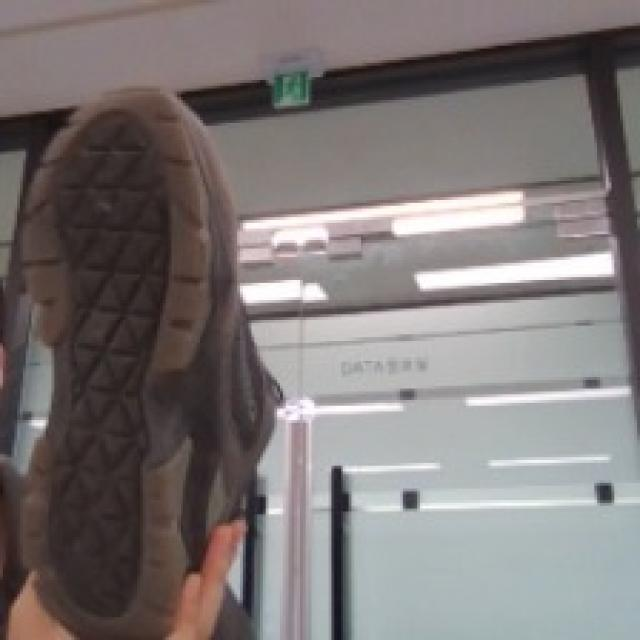shoe: (0, 74, 271, 637)
